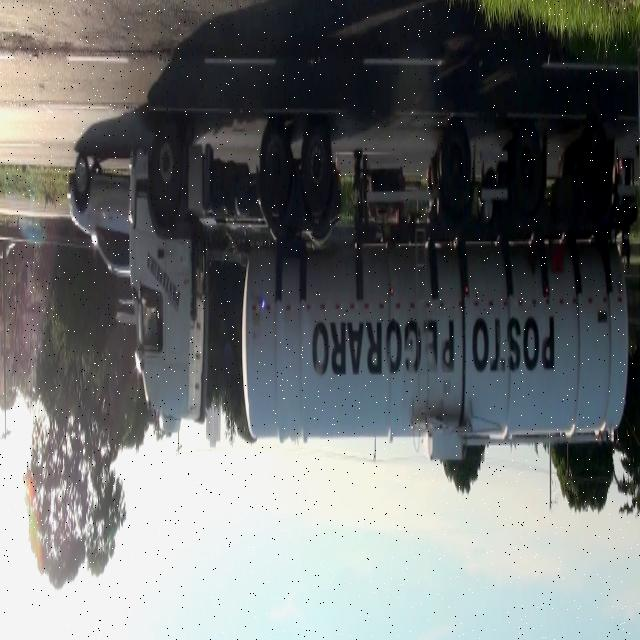-axle: (148, 116, 182, 216), (258, 116, 292, 211), (507, 120, 544, 207), (302, 122, 332, 217), (439, 118, 470, 206), (574, 130, 604, 218)
